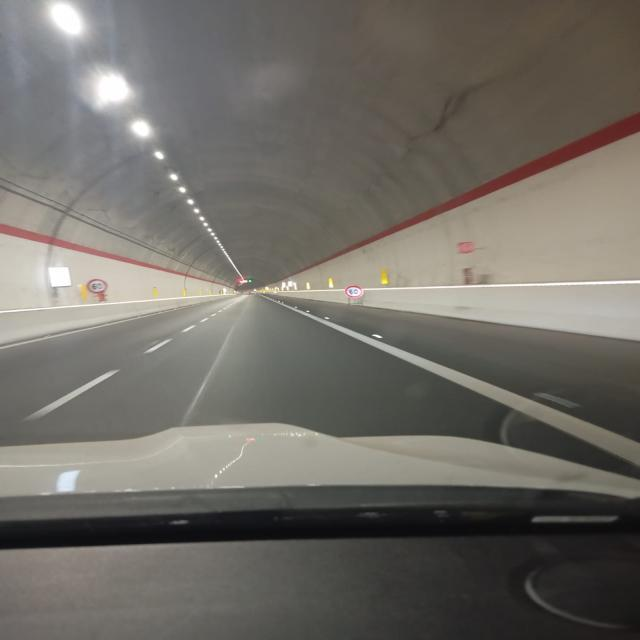forb_speed_over_60: (87, 279, 109, 294), (346, 286, 363, 298)
